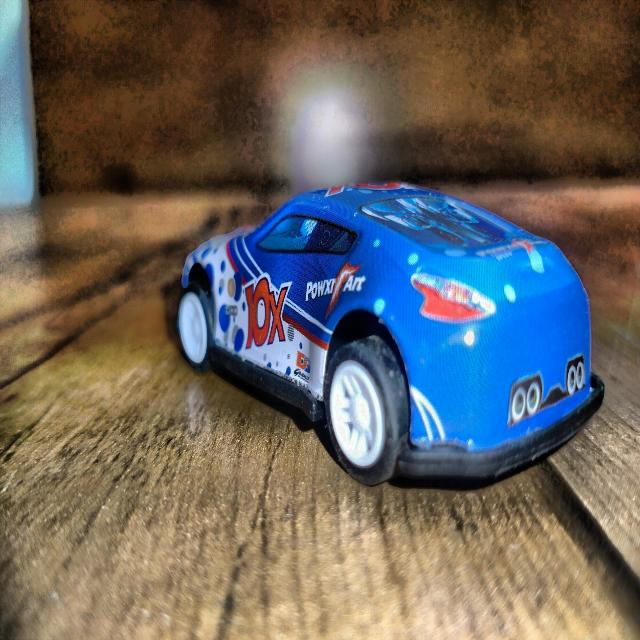Car: (177, 183, 604, 486)
